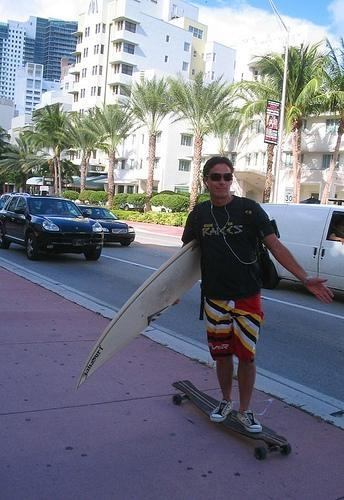car: (0, 188, 99, 260), (78, 205, 136, 247)
truck: (257, 202, 344, 296)
